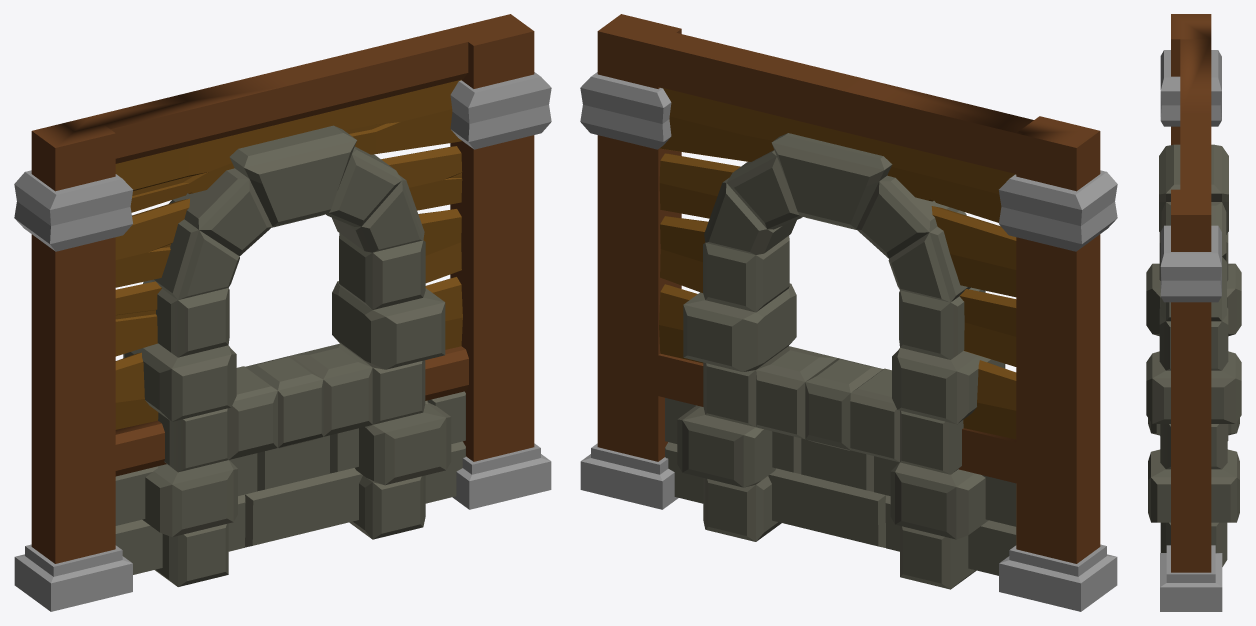
File: WallWindow.fbx
3 views of the same model, side by side, from view 1: azimuth 30°, elevation 25°; view 2: azimuth 150°, elevation 25°; view 3: azimuth 270°, elevation 25° (orthographic). The views are drawn at different scales.
Visible parts, largest first — view 1: WallWindowConstruction, WallWindowFrame, WallWindowPlanks, WallWindowFrame.001, WallWindowConstructionmetal, WallWindowBricks; view 2: WallWindowConstruction, WallWindowFrame, WallWindowPlanks, WallWindowFrame.001, WallWindowConstructionmetal, WallWindowBricks; view 3: WallWindowConstruction, WallWindowFrame, WallWindowConstructionmetal, WallWindowFrame.001.
Part boxes in pixels (x1=…): WallWindowConstruction: x1=31, y1=14, x2=534, y2=563; WallWindowFrame: x1=123, y1=125, x2=451, y2=586; WallWindowPlanks: x1=115, y1=79, x2=462, y2=429; WallWindowFrame.001: x1=124, y1=127, x2=451, y2=585; WallWindowConstructionmetal: x1=14, y1=72, x2=551, y2=611; WallWindowBricks: x1=115, y1=391, x2=465, y2=574; WallWindowConstruction: x1=597, y1=14, x2=1100, y2=563; WallWindowFrame: x1=677, y1=133, x2=1005, y2=589; WallWindowPlanks: x1=659, y1=87, x2=1016, y2=439; WallWindowFrame.001: x1=677, y1=135, x2=1004, y2=587; WallWindowConstructionmetal: x1=580, y1=72, x2=1117, y2=611; WallWindowBricks: x1=665, y1=398, x2=1016, y2=575; WallWindowConstruction: x1=1171, y1=14, x2=1211, y2=572; WallWindowFrame: x1=1146, y1=144, x2=1241, y2=566; WallWindowConstructionmetal: x1=1160, y1=50, x2=1222, y2=611; WallWindowFrame.001: x1=1146, y1=145, x2=1241, y2=562.
Bounding box in the file's own units: 460 × 408 × 88.02.
